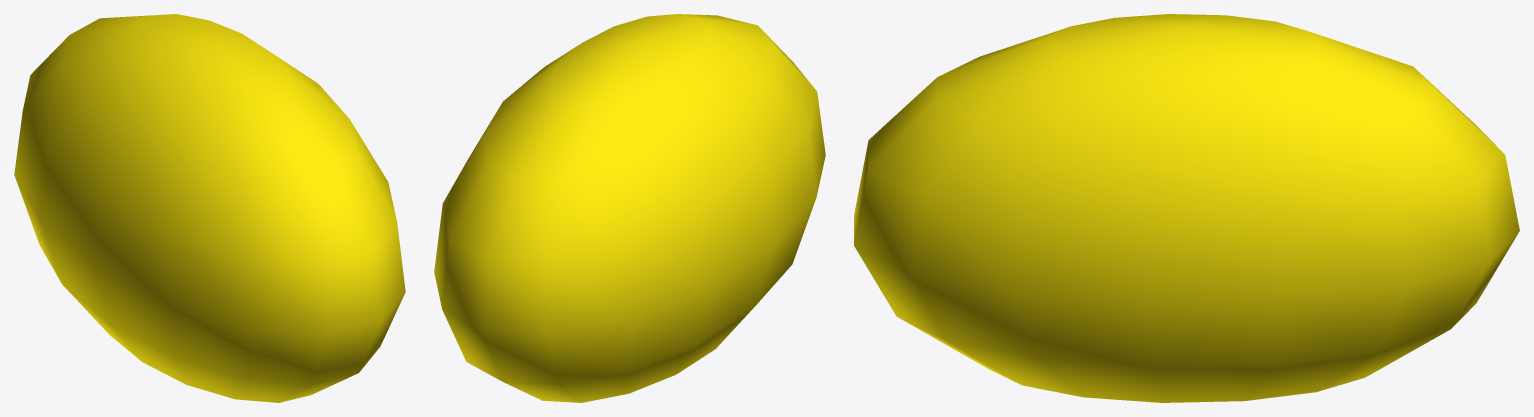
Rendered from corn seed.FBX.
3 views of the same model, side by side, from view 1: azimuth 30°, elevation 25°; view 2: azimuth 150°, elevation 25°; view 3: azimuth 270°, elevation 25° (orthographic). The views are drawn at different scales.
Parts seen in each view (by area): view 1: Sphere002; view 2: Sphere002; view 3: Sphere002.
Boxes of the visible parts, <box> form: Sphere002: <box>14,14,405,402</box>; Sphere002: <box>434,14,825,402</box>; Sphere002: <box>854,14,1519,402</box>.
Bounding box in the file's own units: 7.13 × 8.44 × 13.86.
